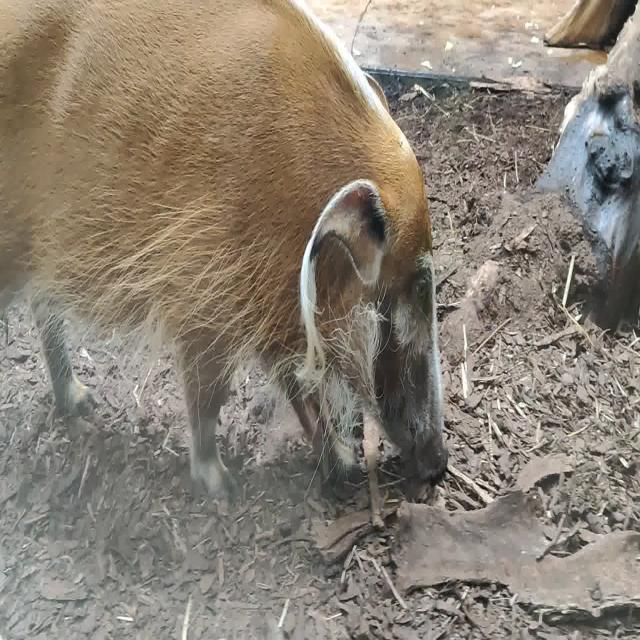boar: (1, 0, 449, 498)
